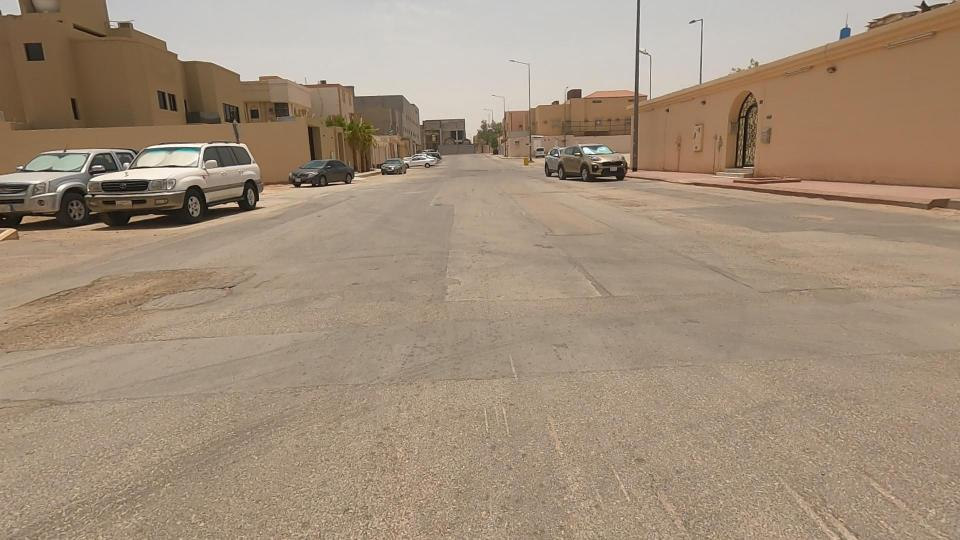POTHOLES: (0, 236, 151, 392), (28, 234, 250, 337), (550, 169, 677, 239)
